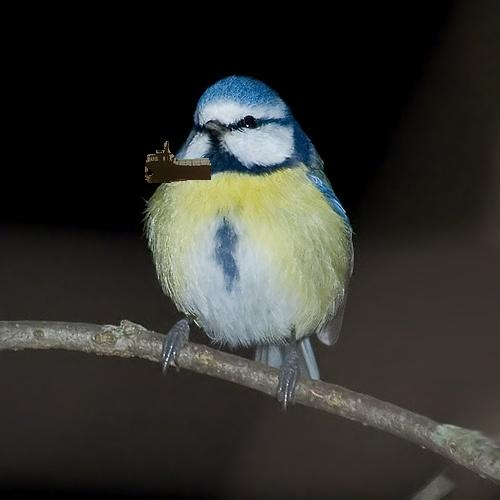tampered: (146, 141, 211, 183)
